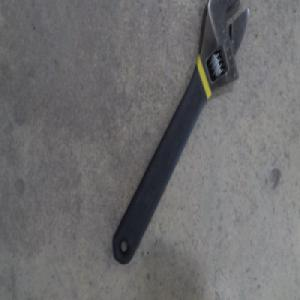AdjustableWrench: (112, 5, 245, 264)
